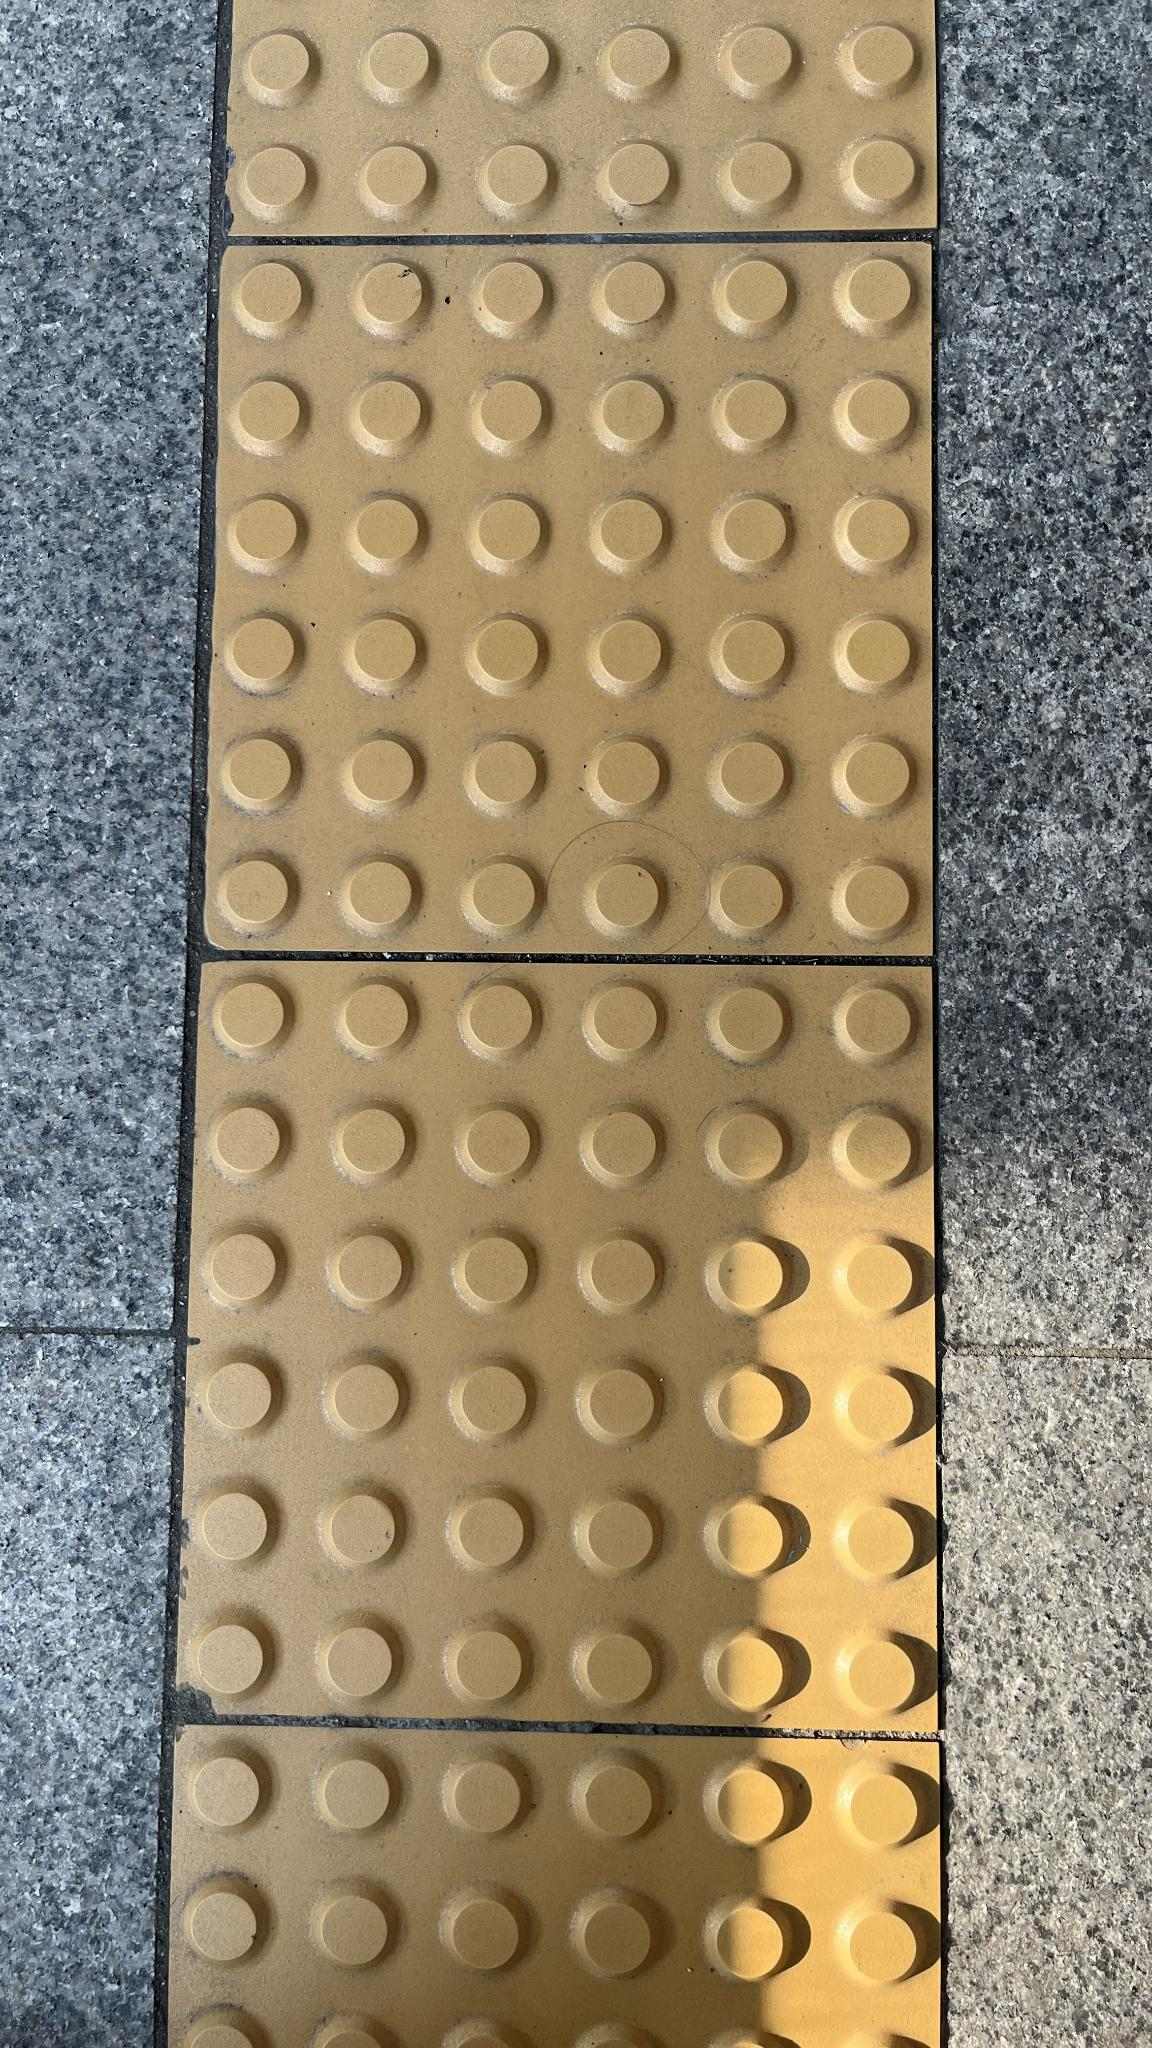Stop block normal: (224, 248, 927, 951)
